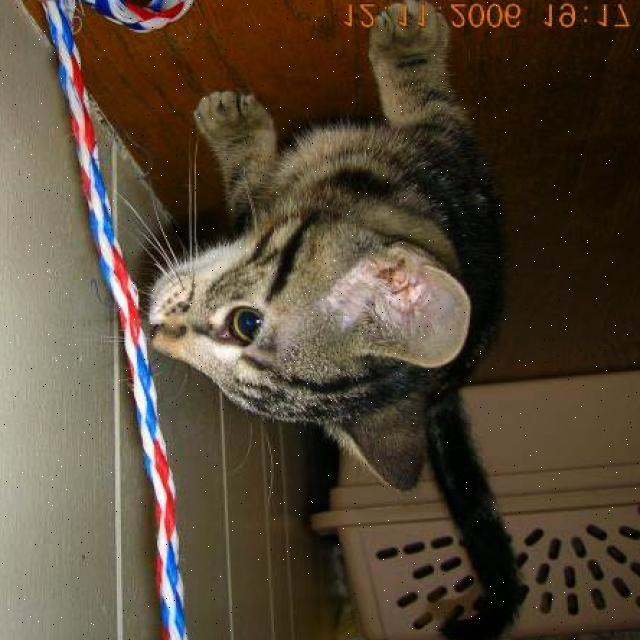Cat: (153, 192, 484, 497)
